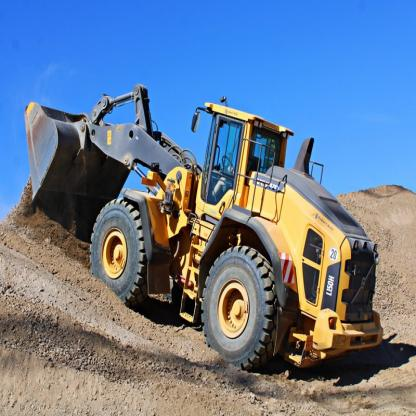bull_dozer/loader/grader: (16, 69, 388, 383)
